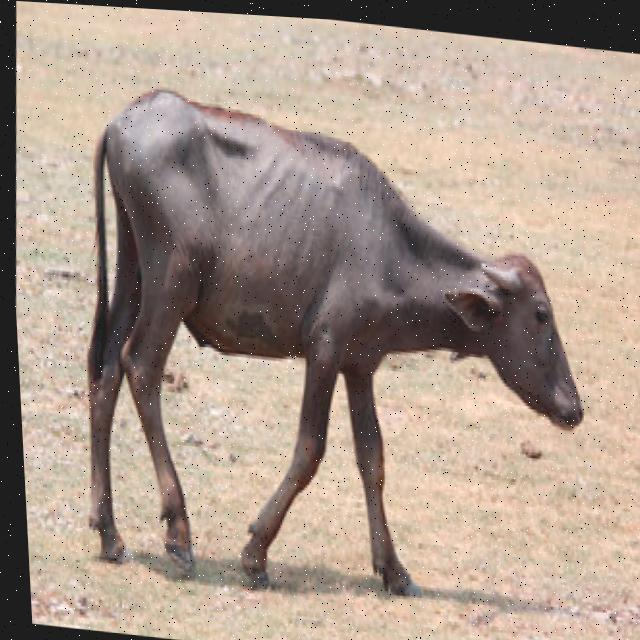Buffalo: (55, 65, 611, 620)
